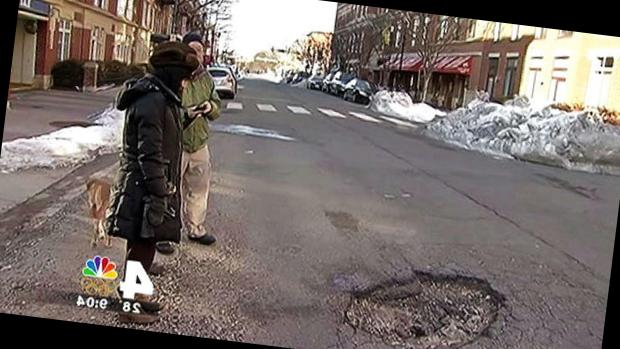pothole: (320, 246, 528, 349)
